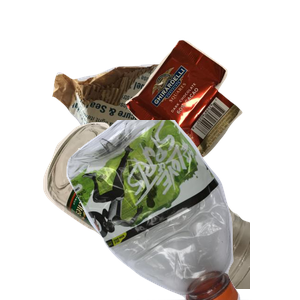cardboard: (50, 62, 228, 226)
glass: (41, 120, 281, 300)
plastic: (64, 120, 300, 300)
trash: (123, 37, 300, 192)
